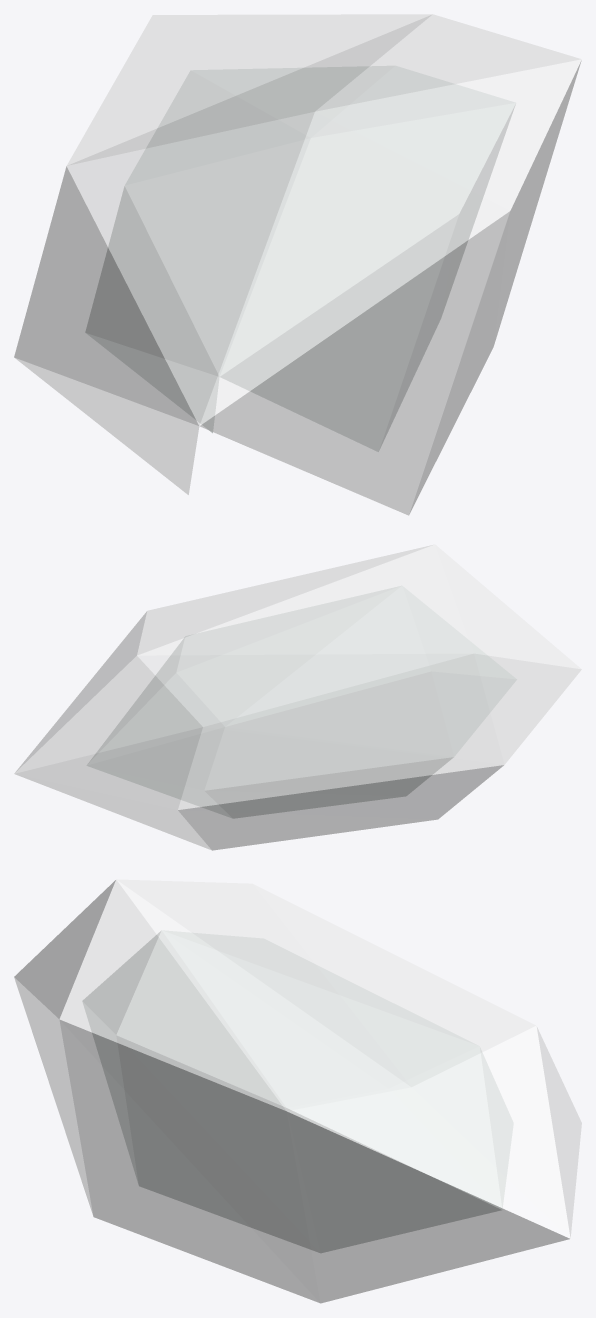
File: crystal-teleport-seed.gltf
3 renders of one model, top to bottom at view 1: azimuth 30°, elevation 25°; view 2: azimuth 150°, elevation 25°; view 3: azimuth 270°, elevation 25°, orthographic. The views are drawn at different scales.
Size of the model in its own units: 48 by 30 by 50.
Materials: 1 (1 with a texture image).
